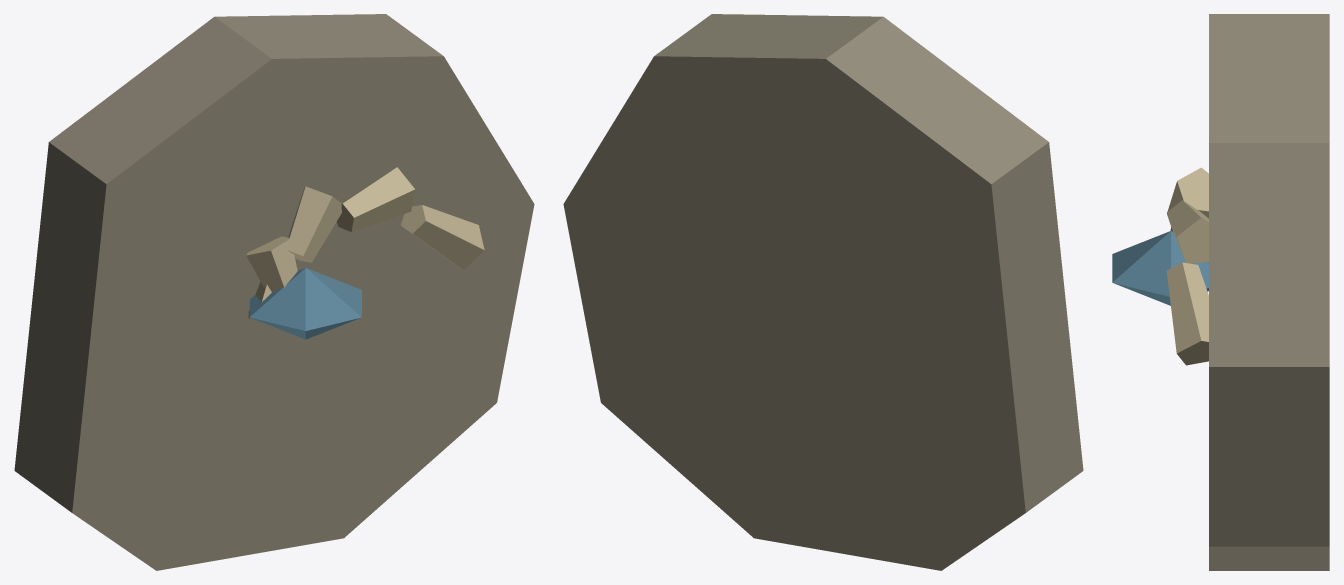
File: celestial_fossil.obj
The picture shows the model from 3 angles, left to right: view 1: azimuth 30°, elevation 25°; view 2: azimuth 150°, elevation 25°; view 3: azimuth 270°, elevation 25°; orthographic projection. The views are drawn at different scales.
Visible parts, largest first — view 1: celestial_fossil; view 2: celestial_fossil; view 3: celestial_fossil.
Part boxes in pixels (x1=…): celestial_fossil: x1=14, y1=14, x2=534, y2=570; celestial_fossil: x1=563, y1=14, x2=1083, y2=570; celestial_fossil: x1=1112, y1=14, x2=1329, y2=570.
Size of the model in its own units: 1.48 by 1.52 by 0.5759.
